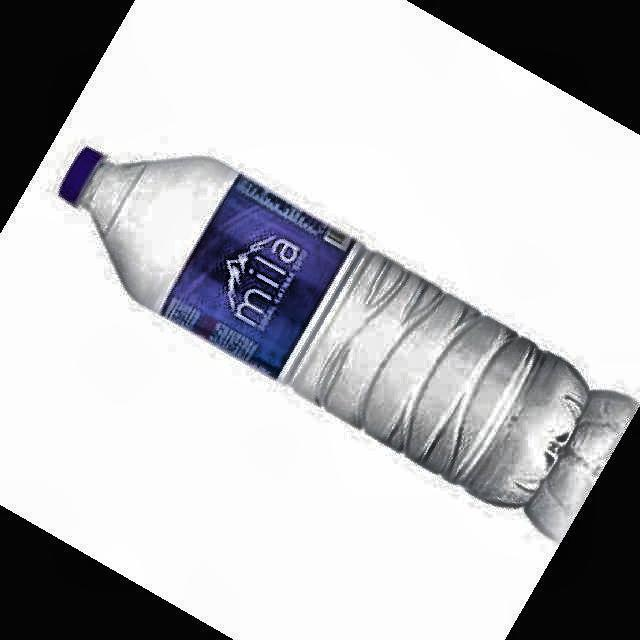plastic: (61, 149, 589, 504)
